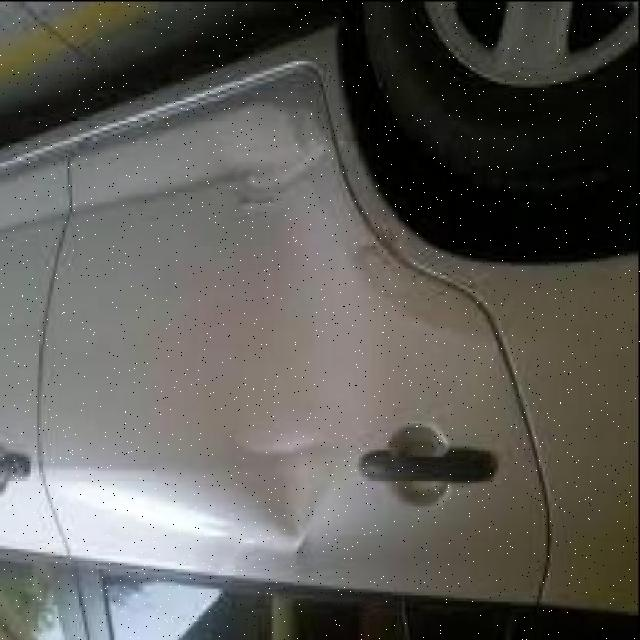damage: (234, 85, 362, 218), (214, 414, 342, 547), (363, 216, 496, 323)
